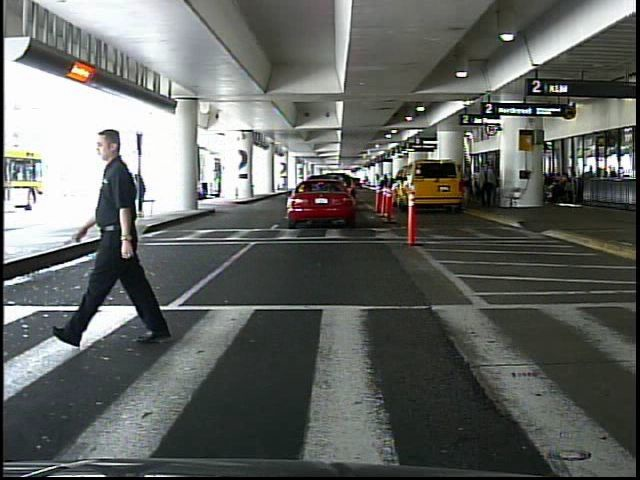person: (91, 125, 171, 349), (479, 163, 496, 209)
